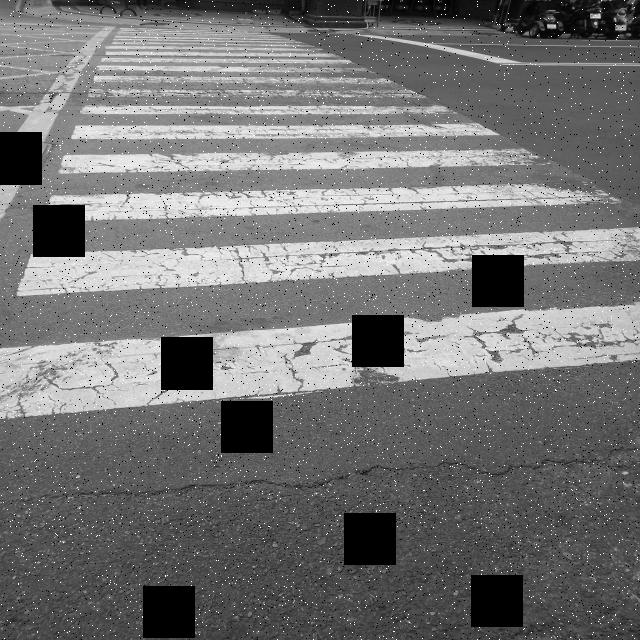zebra_crossing: (0, 30, 640, 417)
